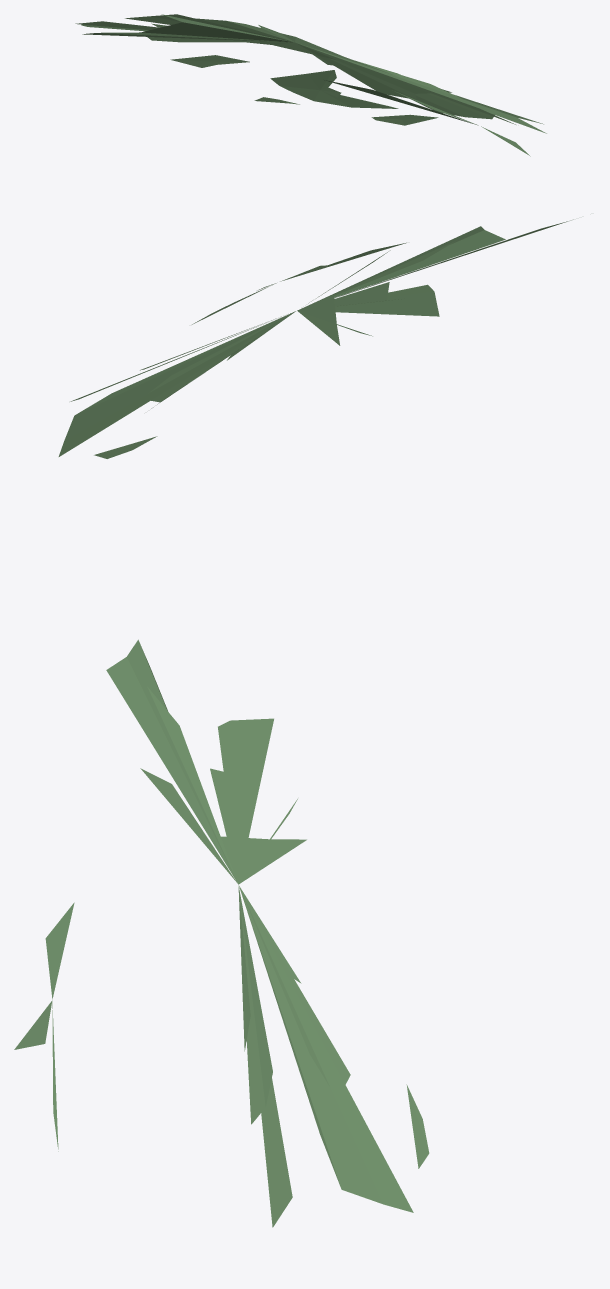
File: c_1665_17821_forest.glb
3 renders of one model, top to bottom at view 1: azimuth 30°, elevation 25°; view 2: azimuth 150°, elevation 25°; view 3: azimuth 270°, elevation 25°, orthographic. The views are drawn at different scales.
Parts seen in each view (by area): view 1: geometry_0; view 2: geometry_0; view 3: geometry_0.
Boxes of the visible parts, <box> form: geometry_0: <box>75,14,546,156</box>; geometry_0: <box>58,219,573,458</box>; geometry_0: <box>14,639,429,1227</box>.
Size of the model in its own units: 324 by 193 by 244.
